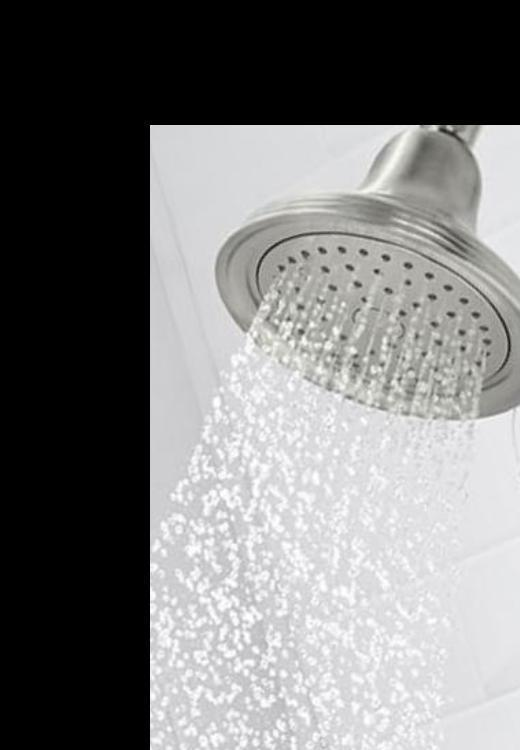Ducha: (54, 0, 520, 750)
